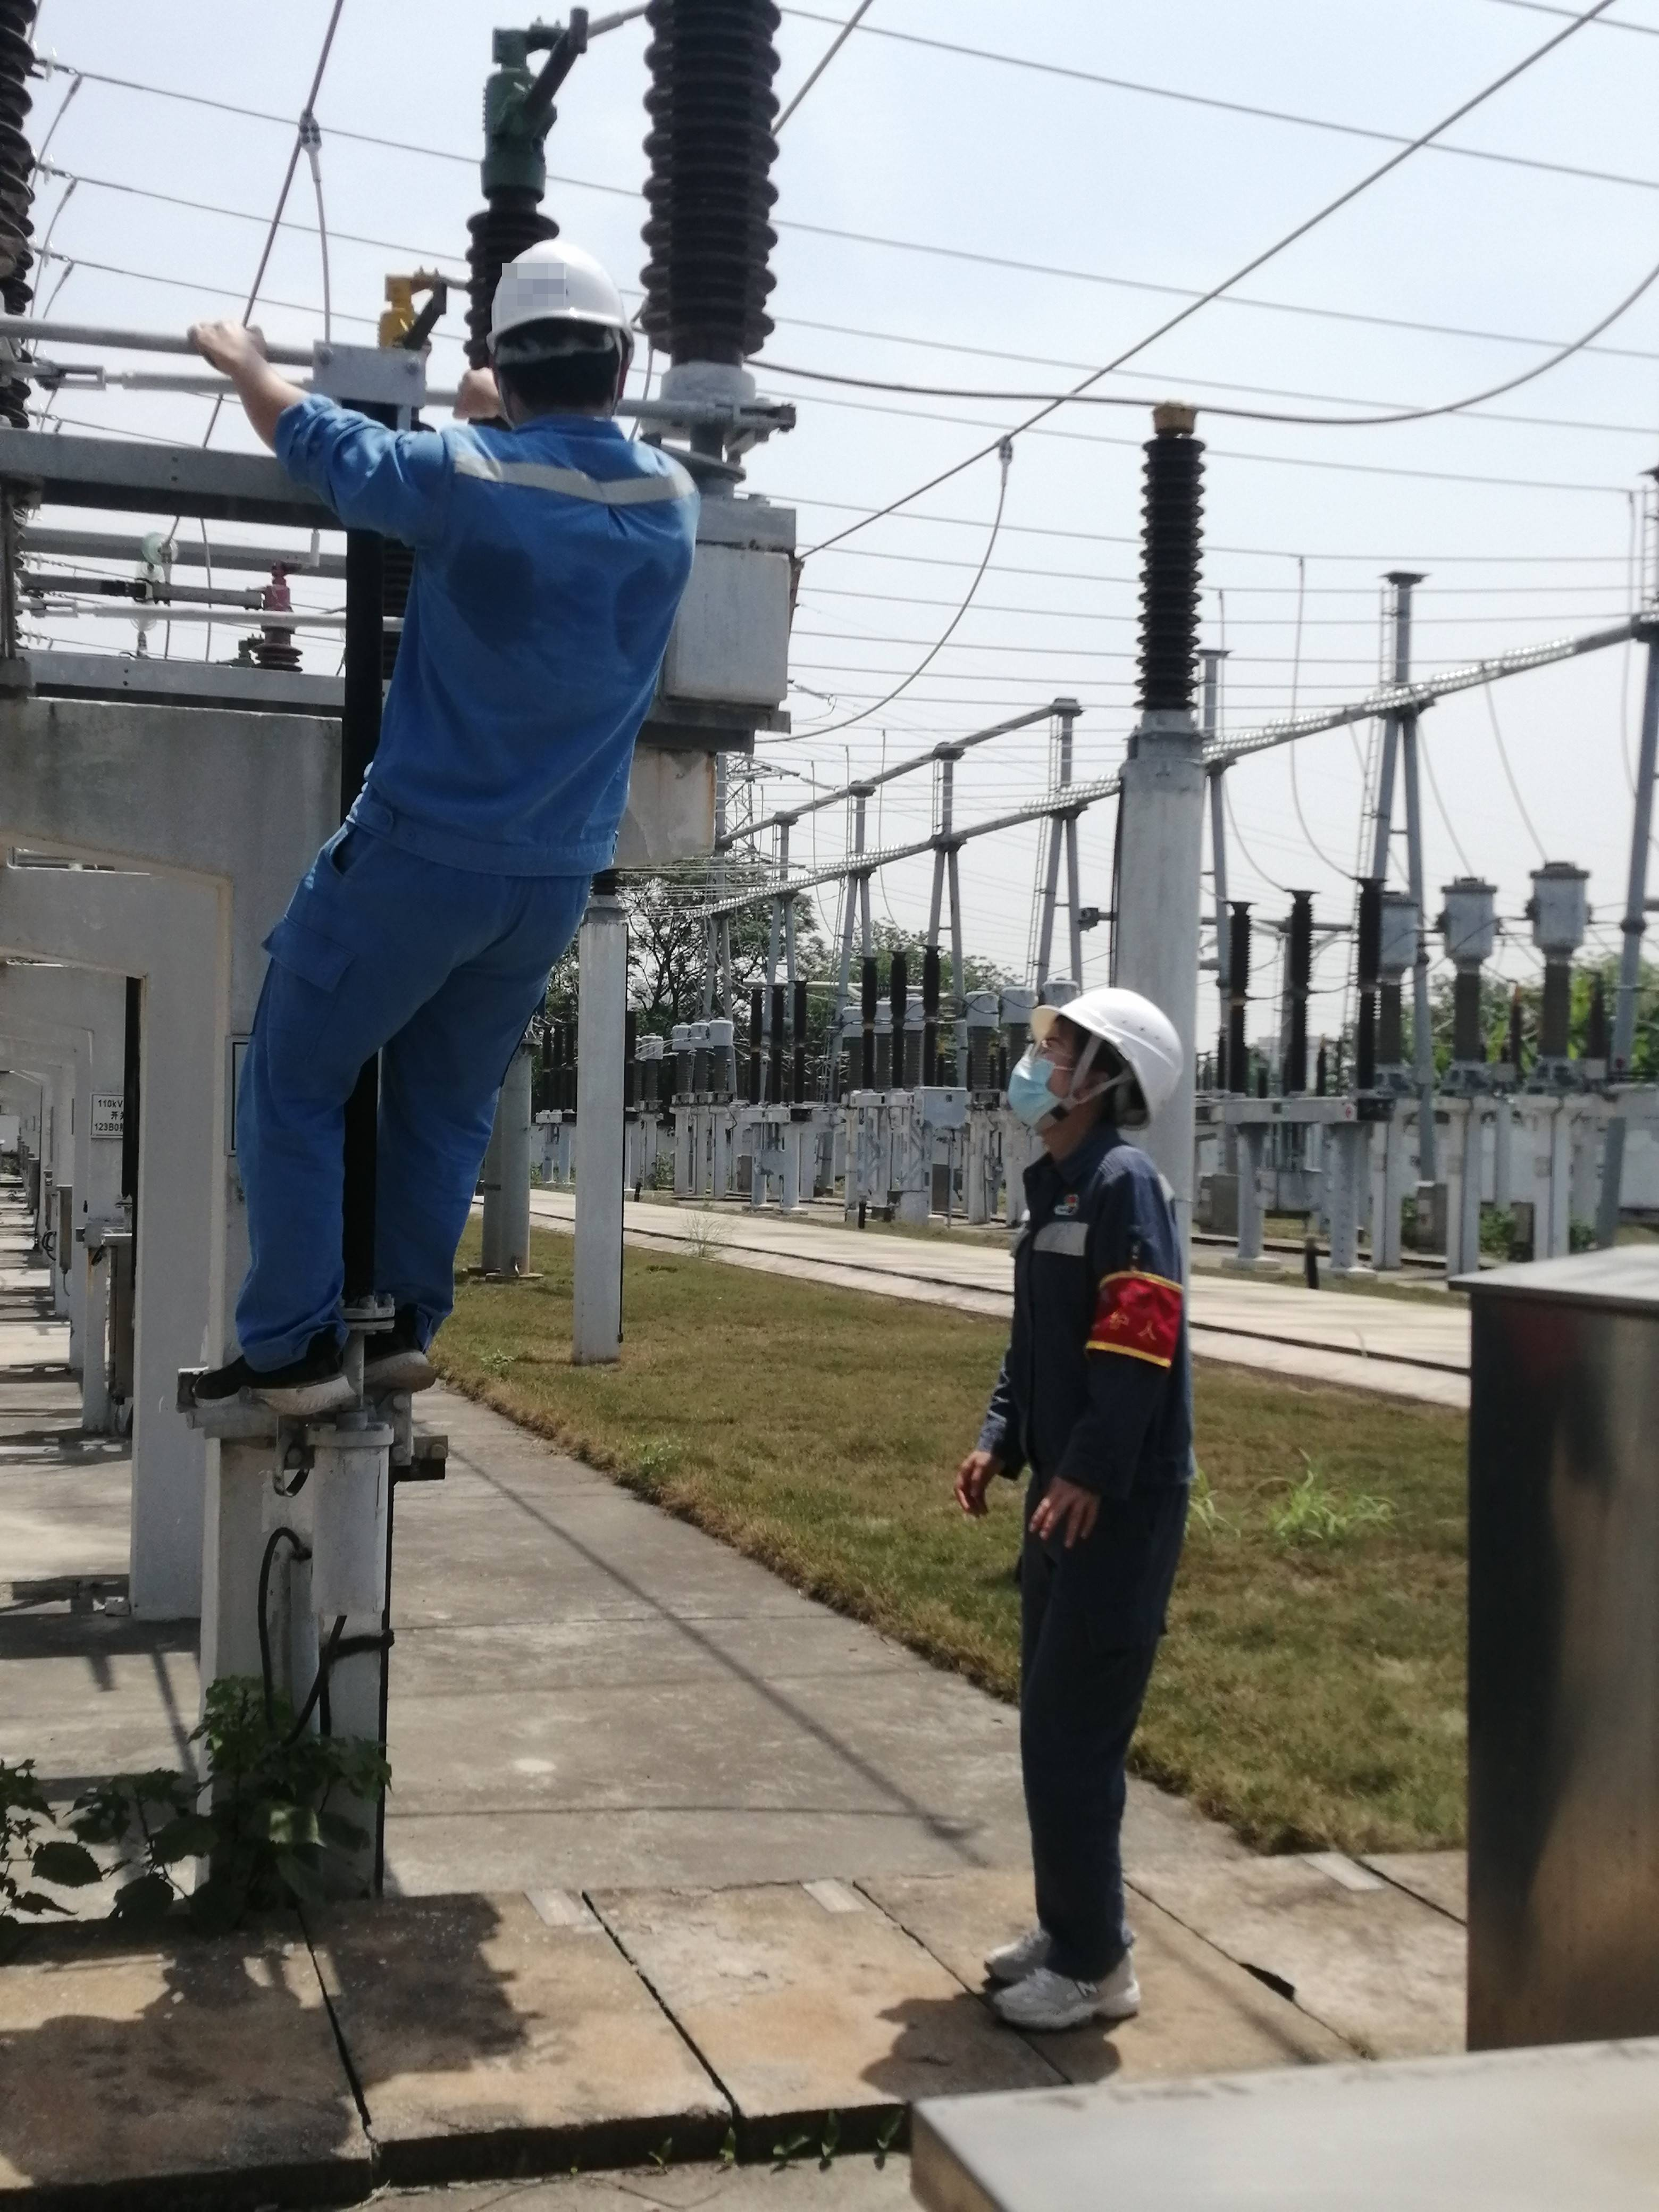downsuit: (225, 888, 596, 1352), (1011, 1515, 1182, 1975)
upsuit: (303, 409, 702, 866), (983, 1139, 1199, 1494)
wrongtop: (188, 312, 342, 474)
